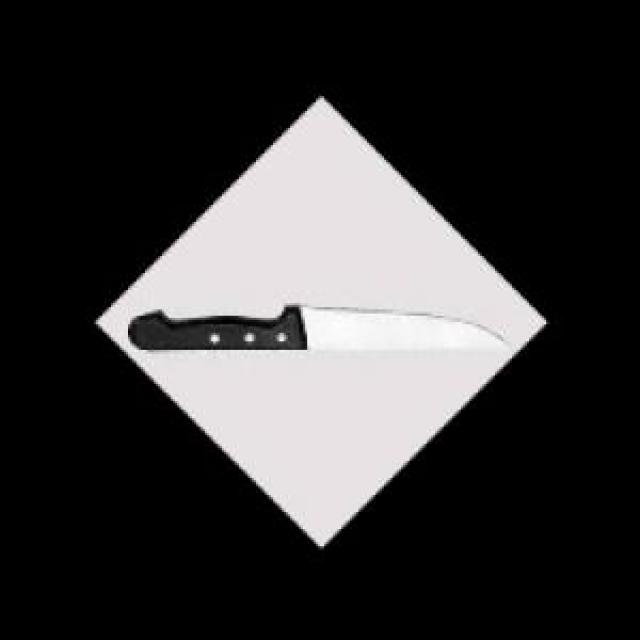knife: (121, 301, 508, 365)
